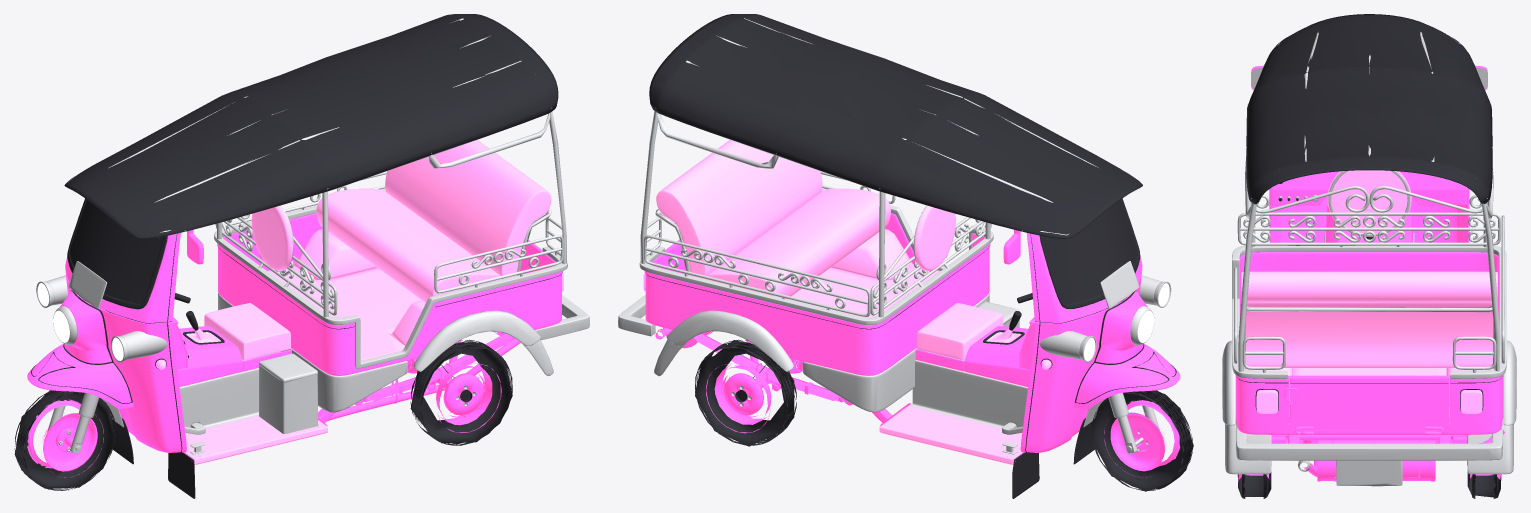
Rendered from stage_tuktuk.glb.
The picture shows the model from 3 angles, left to right: view 1: azimuth 30°, elevation 25°; view 2: azimuth 150°, elevation 25°; view 3: azimuth 270°, elevation 25°; orthographic projection. The views are drawn at different scales.
Visible parts, largest first — view 1: StageTukTuk; view 2: StageTukTuk; view 3: StageTukTuk.
Boxes of the visible parts, box(x1,y1,x2,y2) form: StageTukTuk: box(14, 14, 589, 498); StageTukTuk: box(618, 14, 1193, 498); StageTukTuk: box(1222, 14, 1516, 498).
Size of the model in its own units: 3.03 by 1.95 by 1.37.
